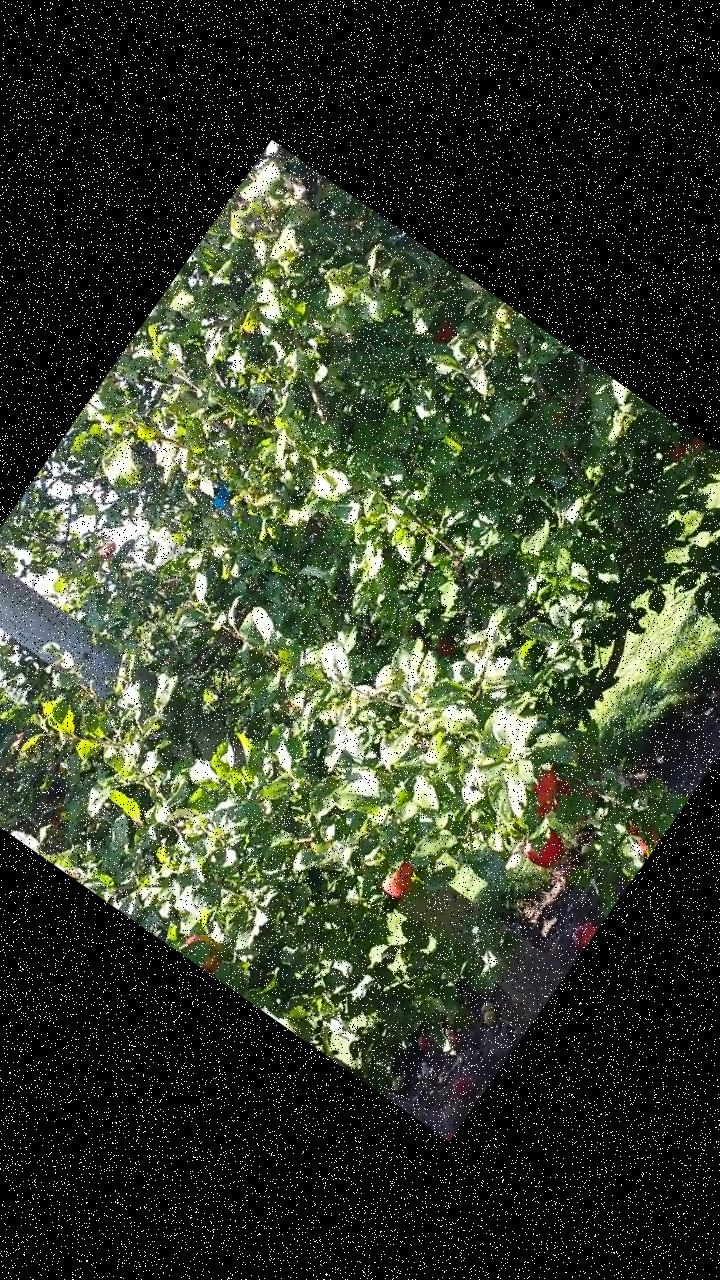Apple: (538, 766, 600, 828), (517, 819, 570, 872), (176, 924, 230, 976), (376, 855, 426, 907), (521, 758, 567, 808), (619, 815, 663, 860), (428, 315, 459, 348), (430, 634, 460, 664), (662, 438, 688, 464), (528, 796, 551, 820), (686, 435, 706, 454)
